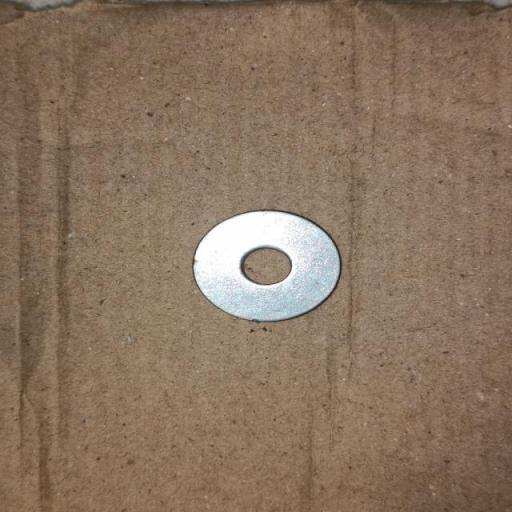Washer: (192, 209, 342, 323)
